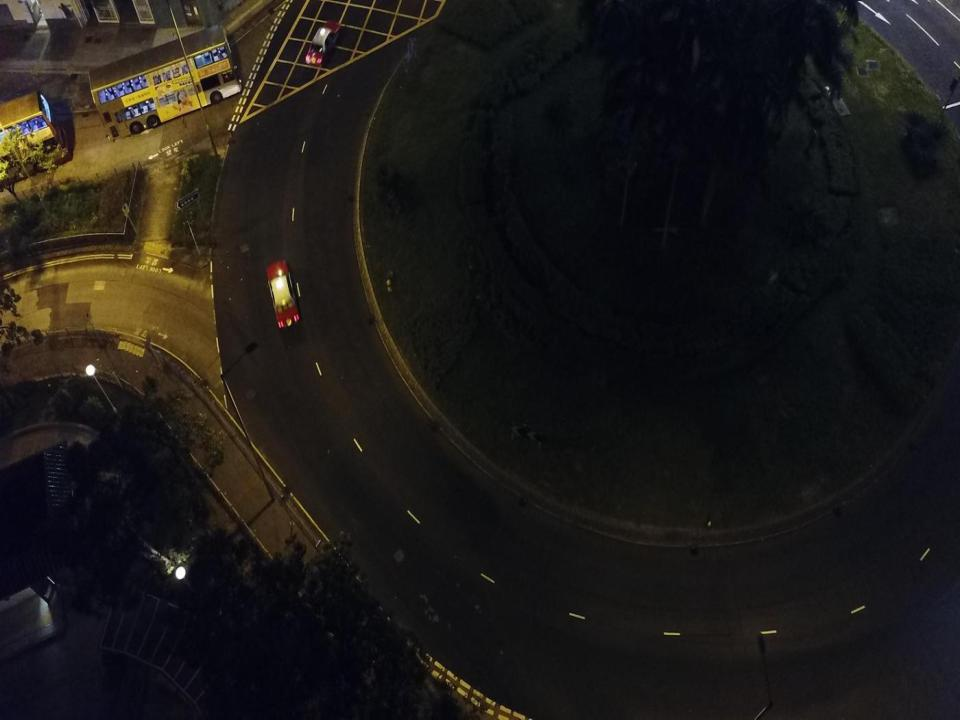bus: (89, 23, 242, 140)
car: (266, 258, 300, 334), (304, 21, 344, 67)
